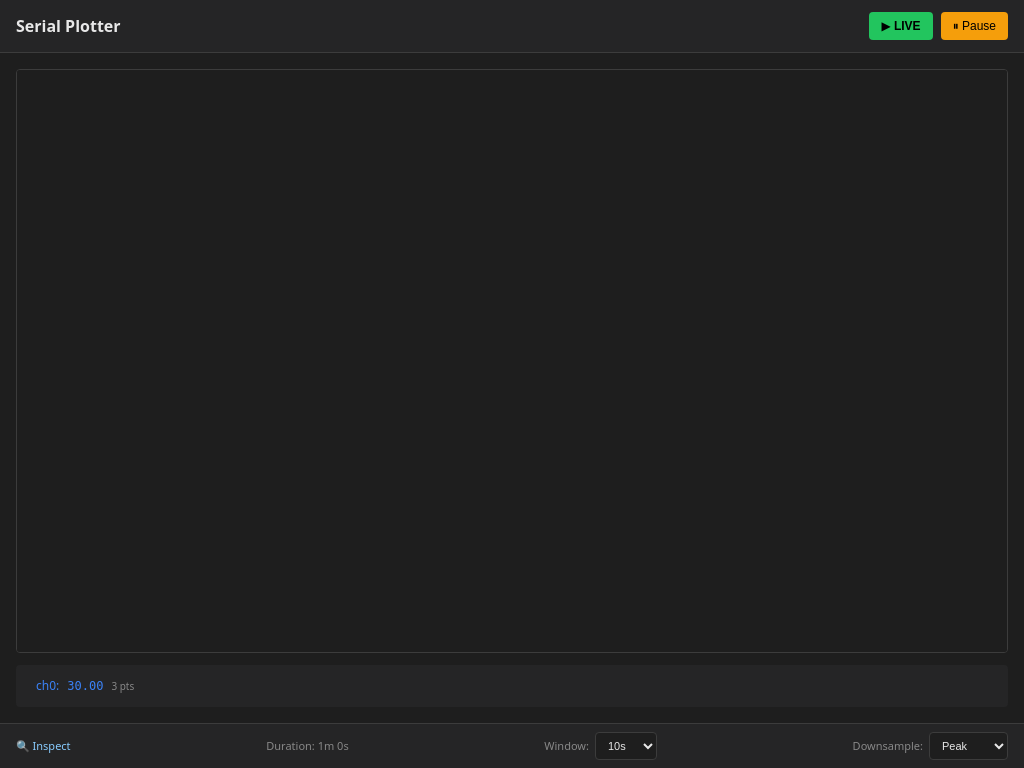
Test: PlotterWindow › returns to LIVE when a new session arrives while inspecting
The width and height of the screenshot is (1024, 768).
Expected: the button "▶ LIVE" is shown, [869,12,933,40]
Step 1. Select "Average" in the dropdown named "Downsample mode" → (968, 746), box [929,732,1008,760]
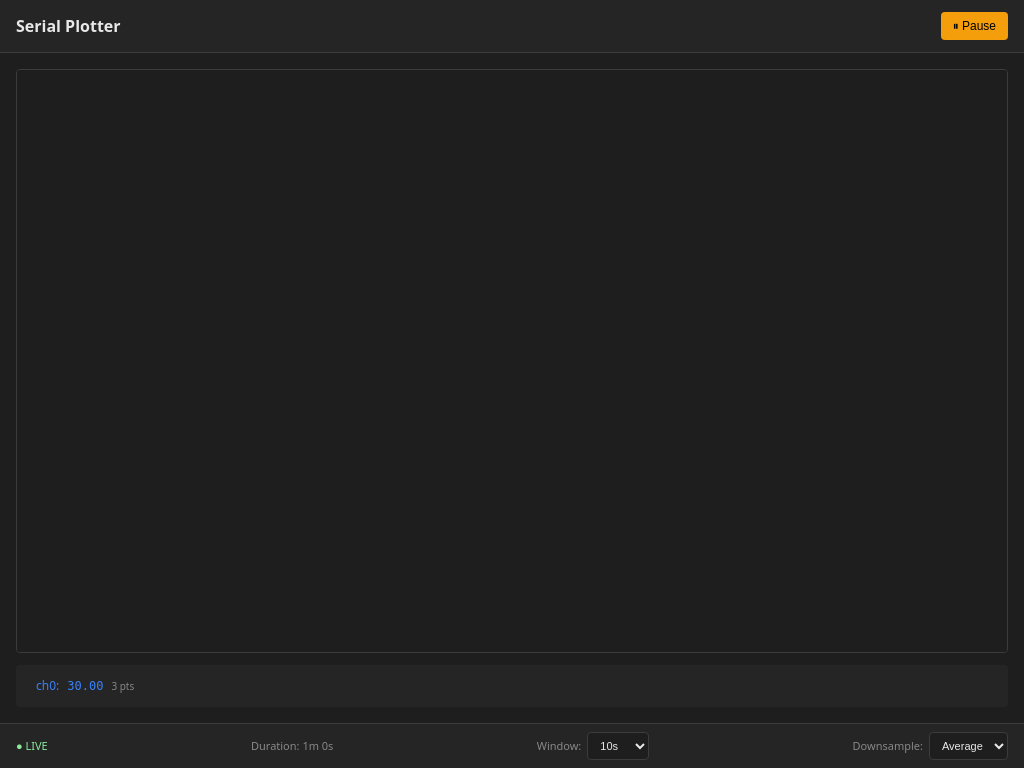
Now the button "▶ LIVE" is gone
